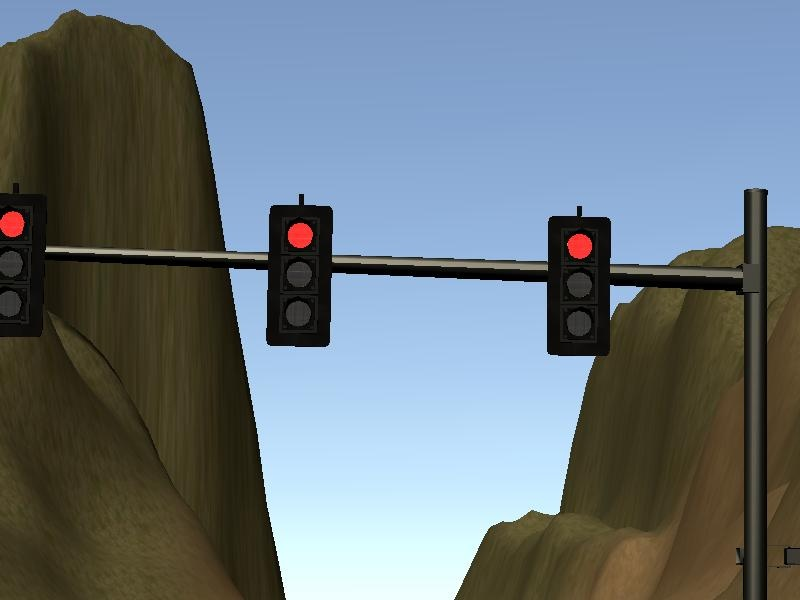RED: (263, 203, 334, 348), (546, 217, 614, 355), (1, 194, 48, 340)
